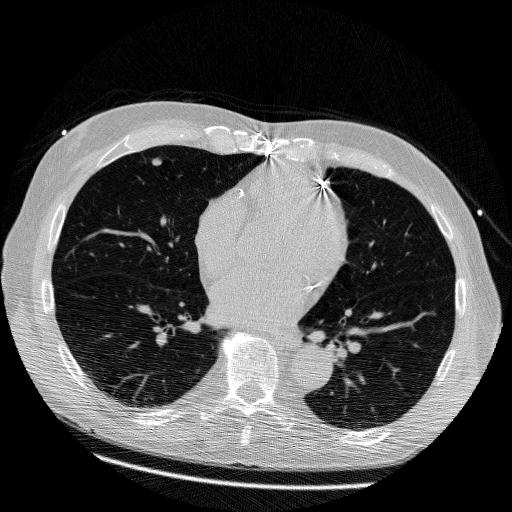nodule: (150, 154, 165, 169)
